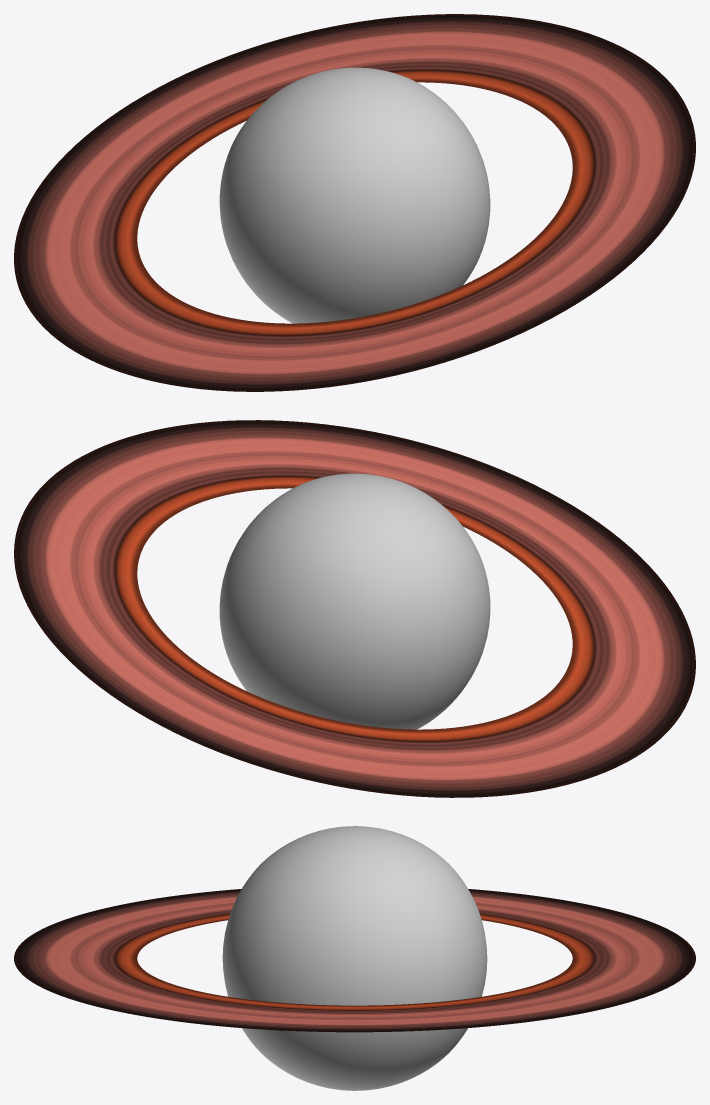
3 renders of one model, top to bottom at view 1: azimuth 30°, elevation 25°; view 2: azimuth 150°, elevation 25°; view 3: azimuth 270°, elevation 25°, orthographic.
Parts seen in each view (by area): view 1: space_object_001_gas_giant; view 2: space_object_001_gas_giant; view 3: space_object_001_gas_giant.
Part boxes in pixels (left/top/right/bottom): space_object_001_gas_giant: left=14, top=14, right=695, bottom=391; space_object_001_gas_giant: left=14, top=420, right=695, bottom=797; space_object_001_gas_giant: left=14, top=826, right=695, bottom=1090.
Bounding box in the file's own units: 25.2 × 10.02 × 25.81.
